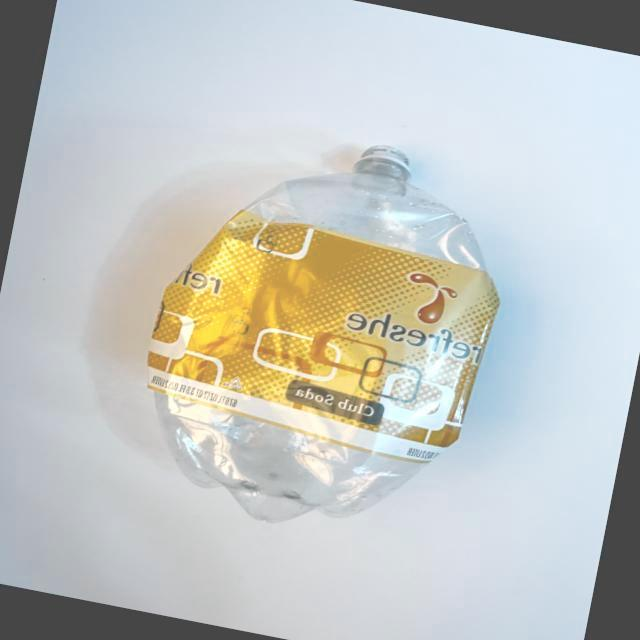plastic: (84, 94, 536, 574)
